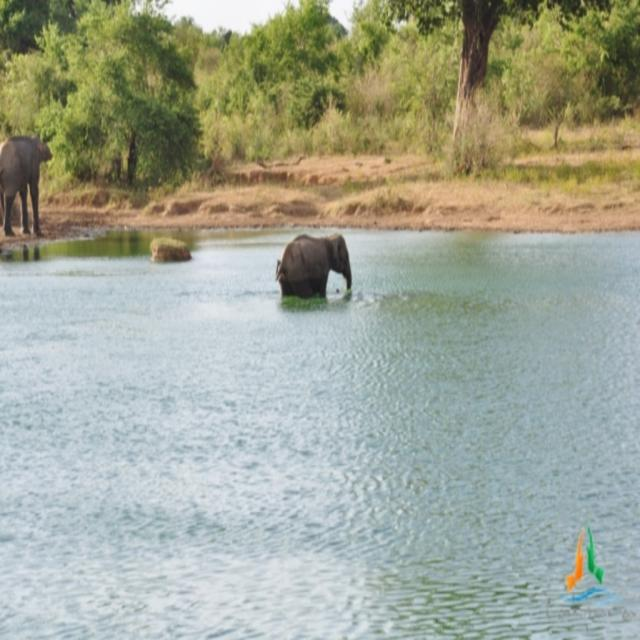elephant: (272, 219, 358, 302), (0, 138, 50, 237)
